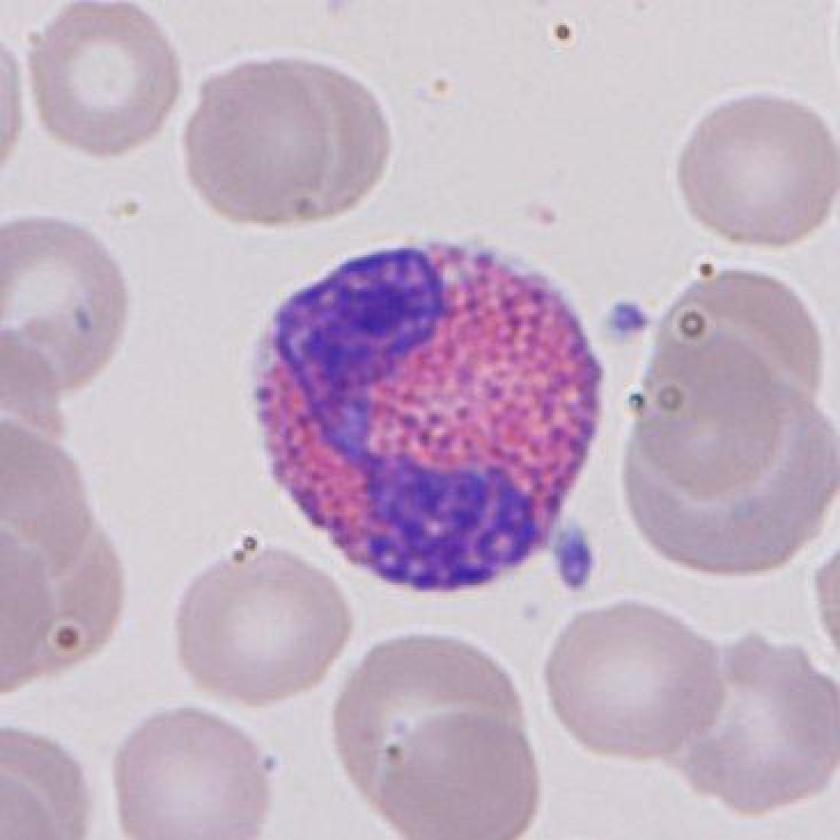eosinophil: (240, 231, 616, 597)
